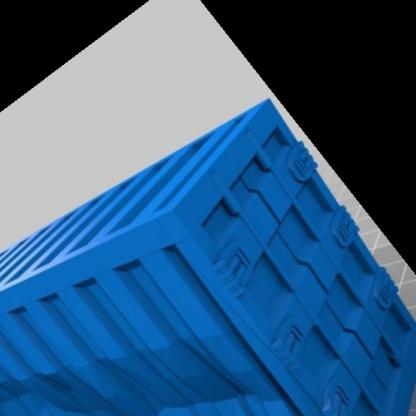Damage: (20, 332, 263, 410)
